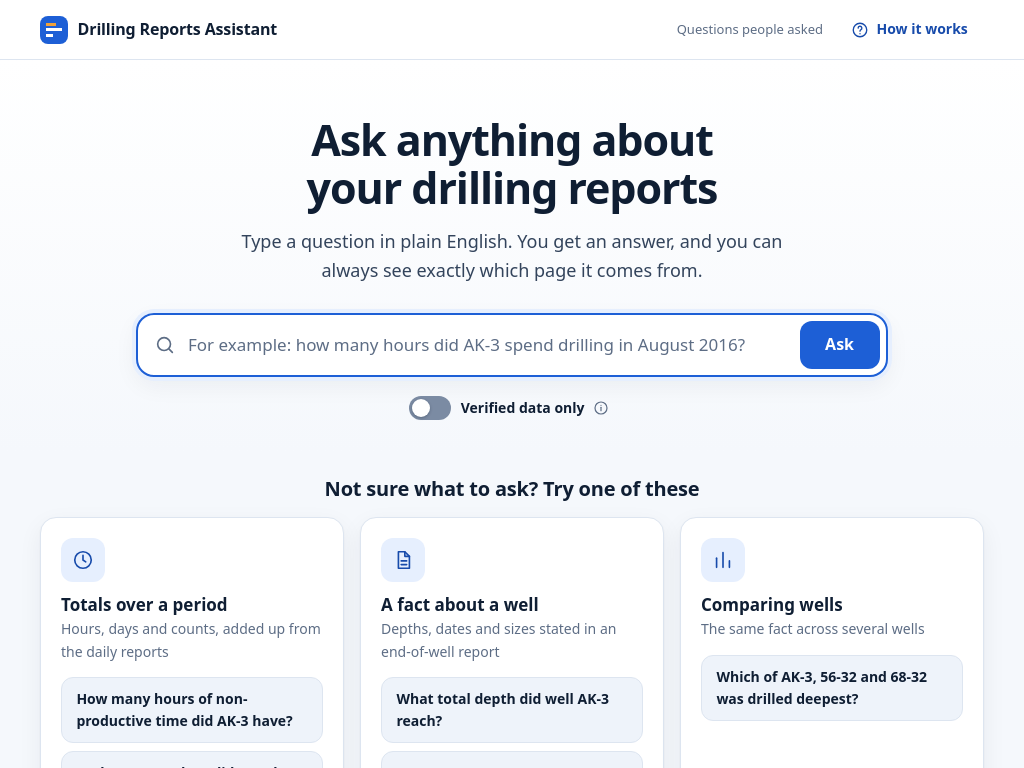
Test: the guide › can be opened again at any time, and closes with Escape
This screenshot has width=1024, height=768.
Click the button "How it works" at [910, 30], box [835,10,984,50]
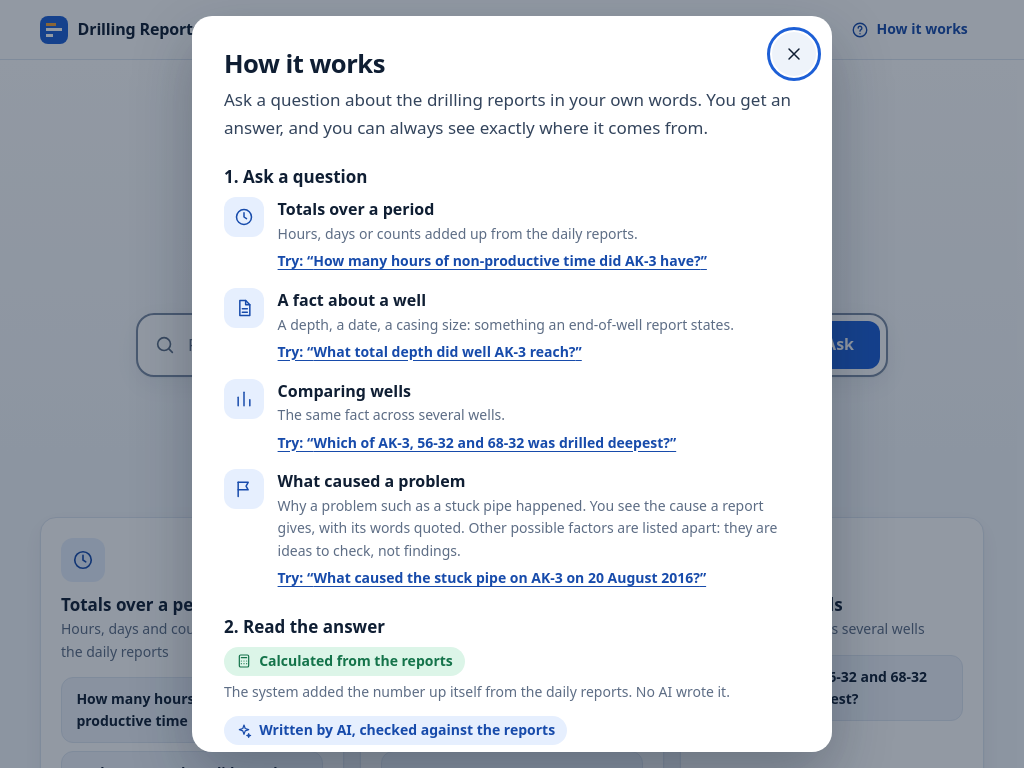
Now the dialog "How it works" is shown, box [192,16,832,752]
Press Escape
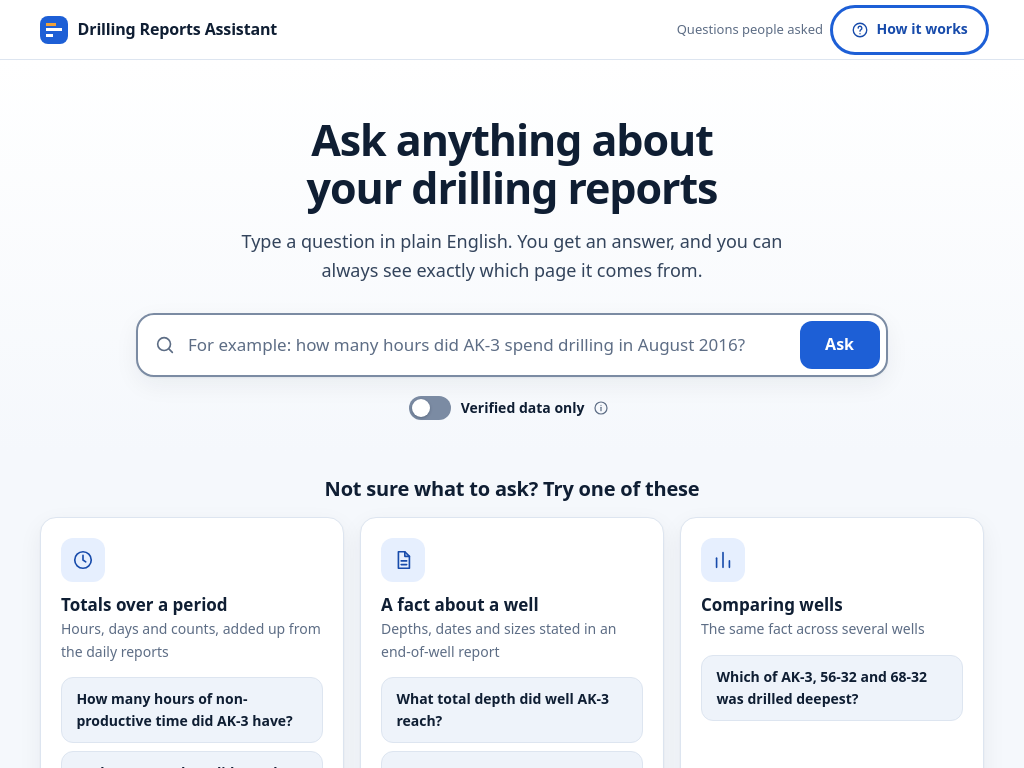
Now the dialog is gone
